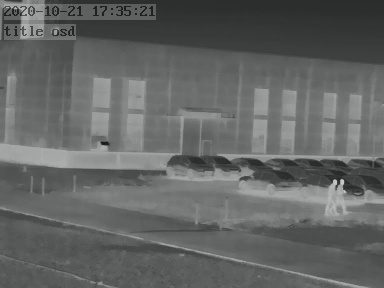person: (323, 178, 338, 215), (335, 179, 347, 214)
vehicle: (304, 173, 363, 202), (238, 169, 303, 191), (164, 153, 213, 178), (350, 170, 381, 206), (204, 153, 242, 177), (232, 154, 269, 172), (260, 155, 295, 170), (346, 156, 379, 171), (296, 155, 328, 169), (317, 156, 348, 170)
